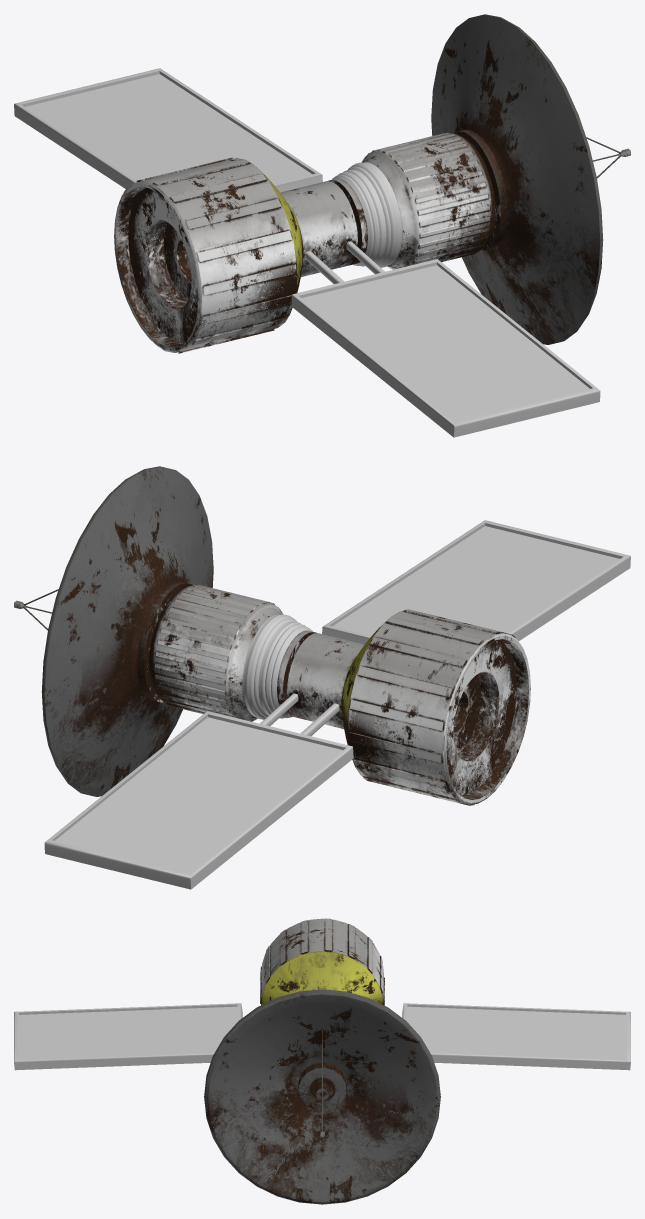
The model's file is Satelite.obj.
3 renders of one model, top to bottom at view 1: azimuth 30°, elevation 25°; view 2: azimuth 150°, elevation 25°; view 3: azimuth 270°, elevation 25°, orthographic. The views are drawn at different scales.
Parts seen in each view (by area): view 1: Satélite, Placas, Couro; view 2: Satélite, Placas, Couro; view 3: Satélite, Placas.
Part boxes in pixels (x1=…): Satélite: x1=114, y1=14, x2=618, y2=353; Placas: x1=14, y1=68, x2=600, y2=437; Couro: x1=332, y1=162, x2=402, y2=267; Satélite: x1=26, y1=466, x2=530, y2=805; Placas: x1=44, y1=520, x2=630, y2=889; Couro: x1=242, y1=614, x2=312, y2=719; Satélite: x1=204, y1=918, x2=440, y2=1204; Placas: x1=14, y1=1003, x2=630, y2=1070.
Size of the model in its own units: 6.21 by 3.85 by 10.02.
